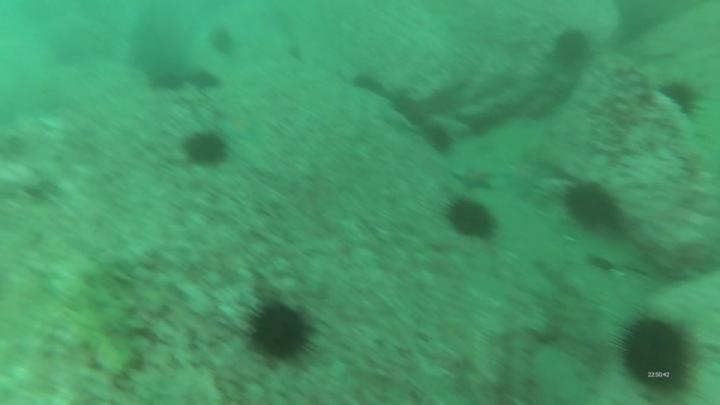echinus: (612, 306, 702, 401), (240, 296, 315, 366), (563, 176, 618, 235), (437, 194, 499, 241), (176, 126, 234, 170), (657, 77, 704, 125), (552, 25, 594, 70), (388, 94, 431, 129), (421, 120, 456, 159), (351, 73, 392, 100), (185, 66, 224, 93), (149, 70, 185, 94), (207, 23, 233, 56)
holothurian: (64, 269, 152, 379)
starfish: (450, 165, 500, 194)
